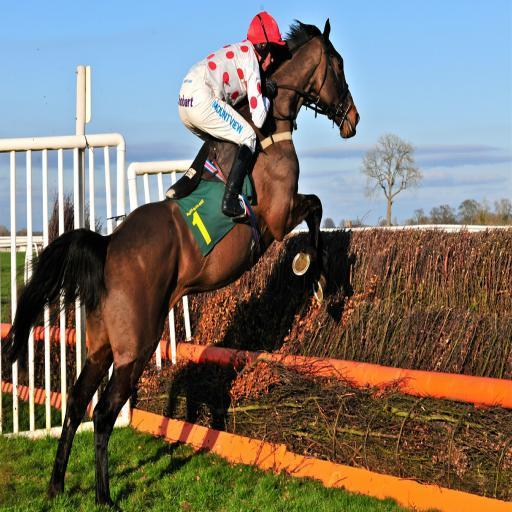horse: (0, 14, 360, 512)
